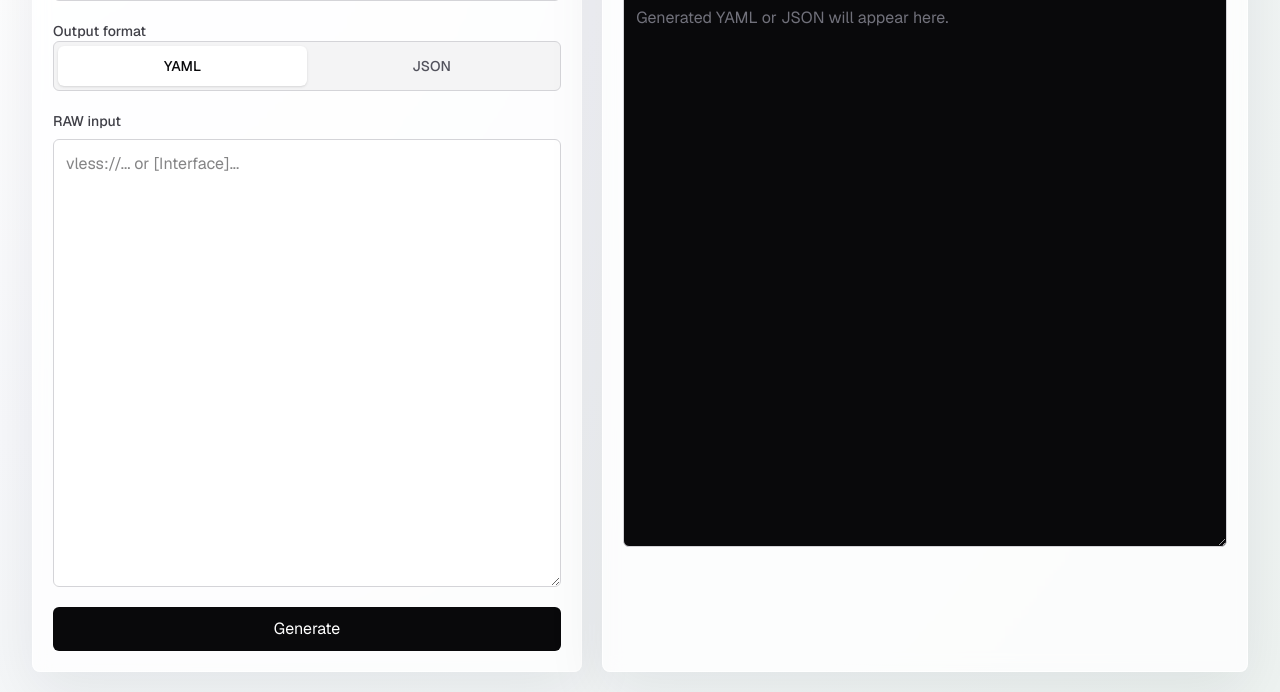
ClashConverterPage › blocks empty raw input before backend request
(page scrolled)
What coordinates should you click on to do the following:
click the button "Generate"
I would click on:
 (307, 629)
Its box is top-left (53, 607), bottom-right (561, 651).
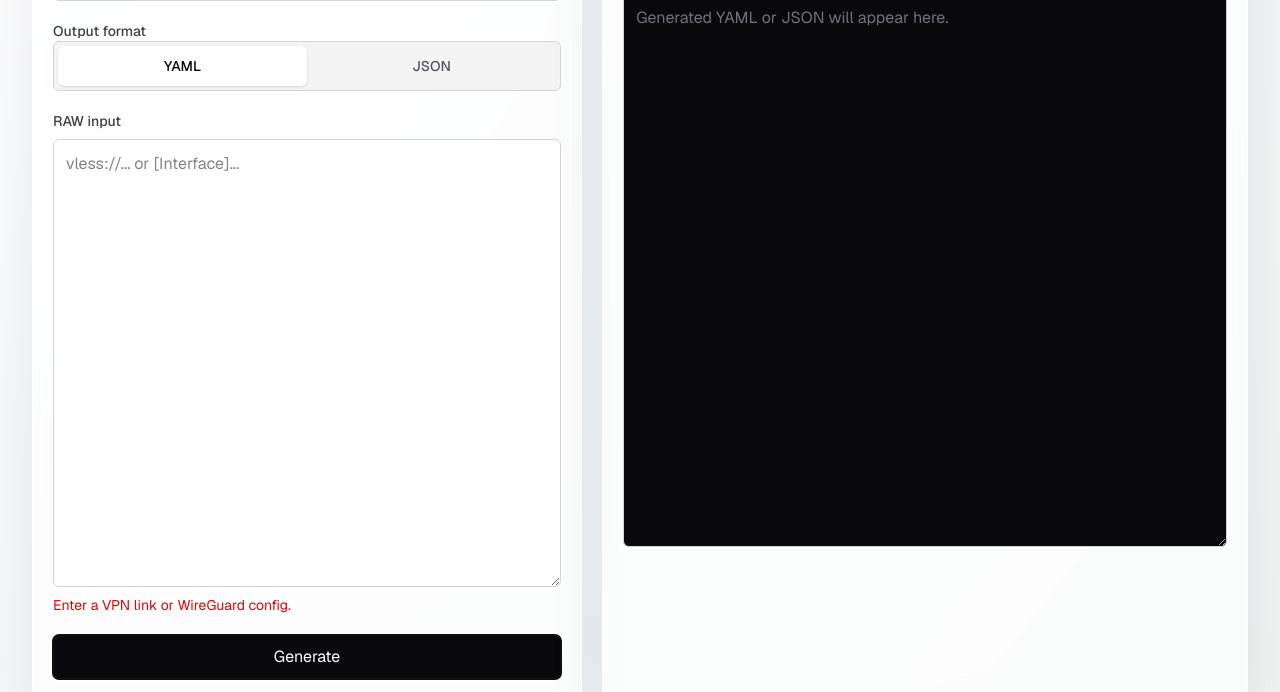
Result: the text "Enter a VPN link or WireGuard config." is shown at top-left (53, 596), bottom-right (291, 614)
